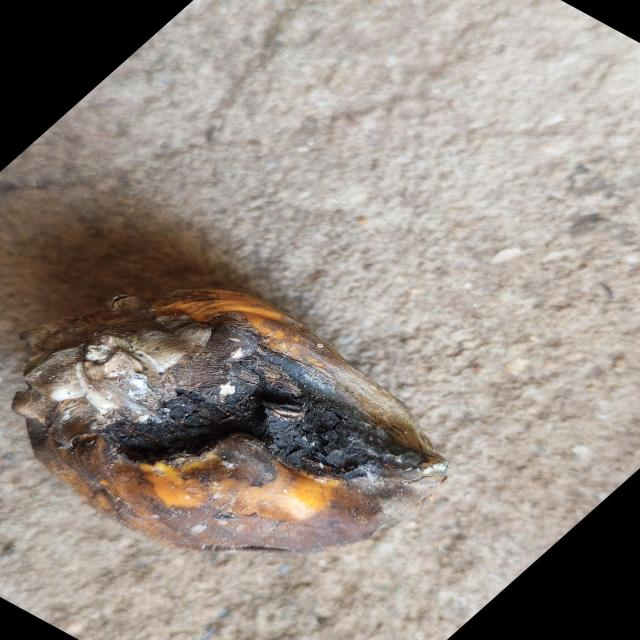damaged: (13, 290, 448, 550)
